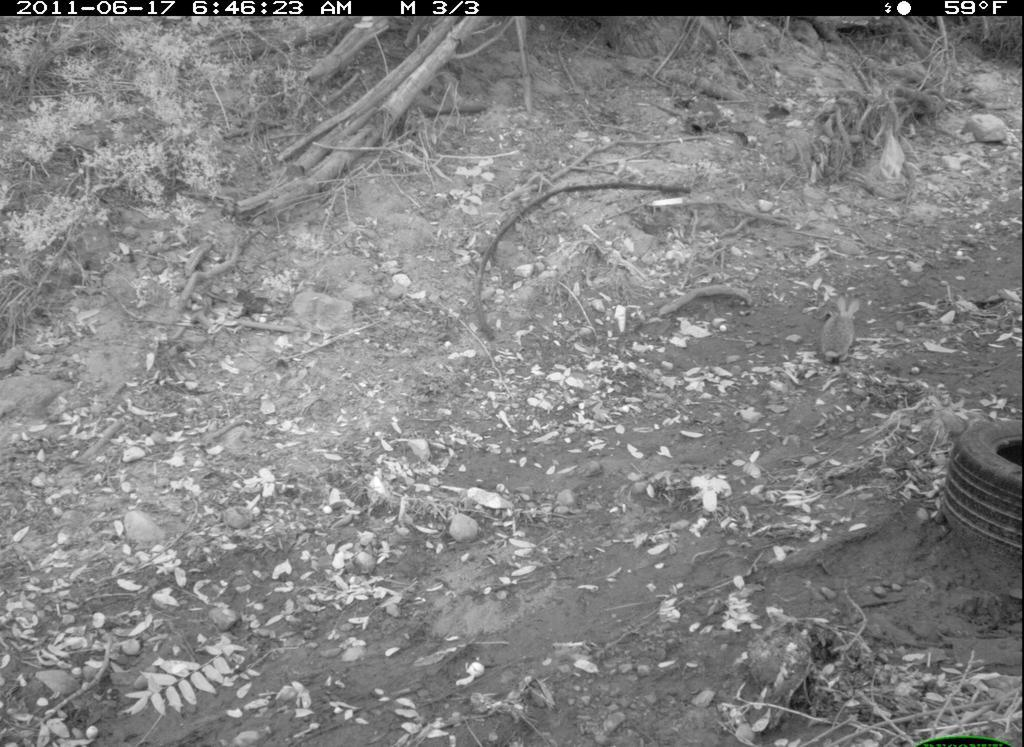rabbit: (811, 287, 876, 379)
